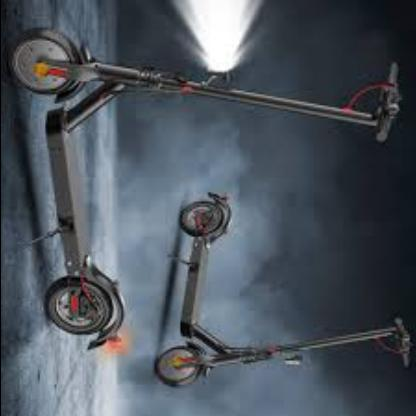bike: (12, 21, 416, 407), (152, 191, 414, 389)
car: (13, 23, 415, 409)
